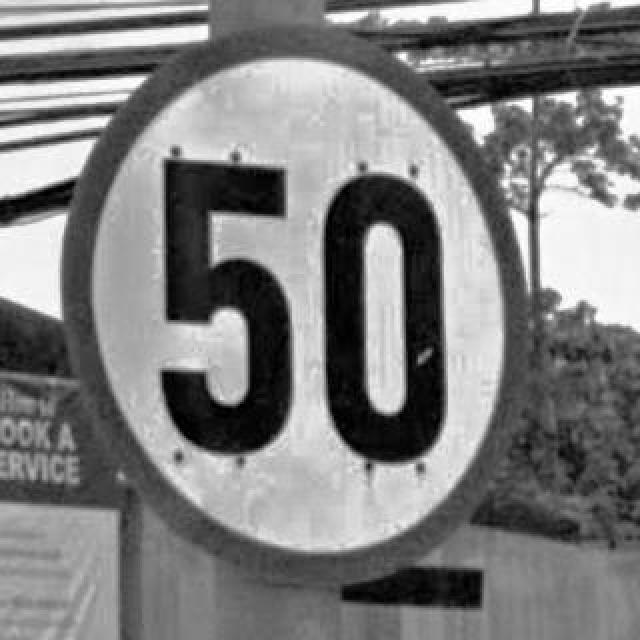50 kph: (58, 22, 530, 582)
